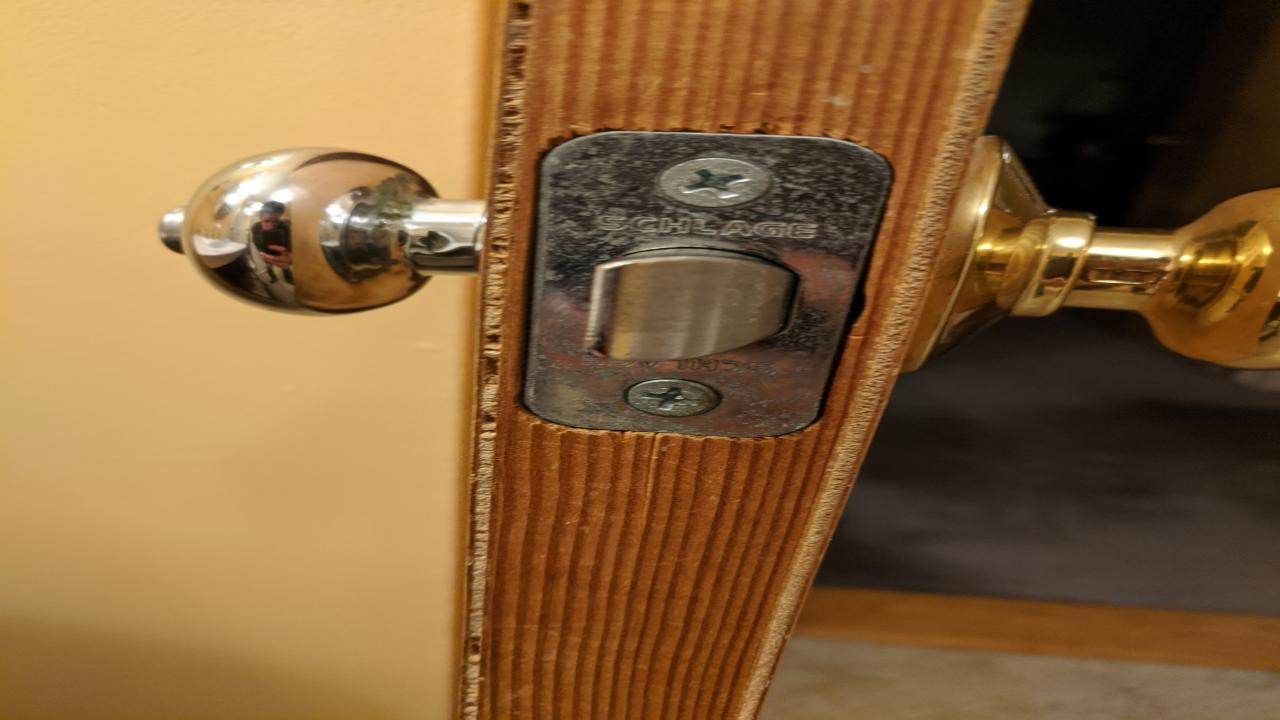CRS: (656, 154, 774, 211), (622, 375, 724, 417)
